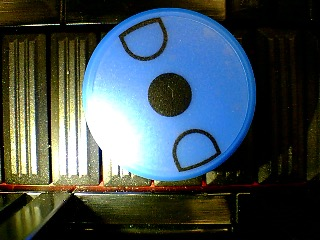BOHOMIPO2: (81, 7, 257, 182)
